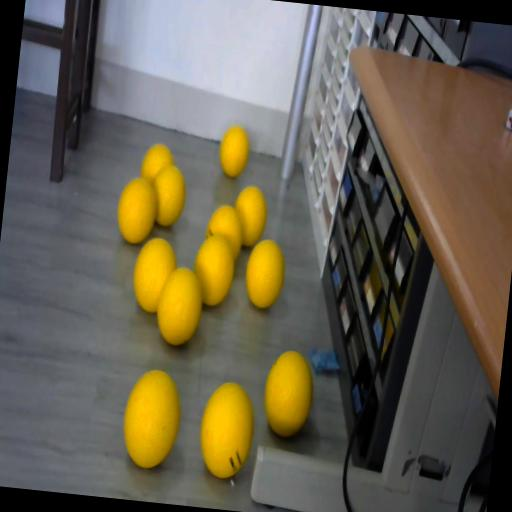FUEL: (118, 366, 184, 470), (195, 378, 259, 480), (260, 348, 316, 440), (130, 234, 179, 314), (190, 232, 238, 308), (241, 237, 288, 310), (114, 176, 160, 246), (148, 160, 190, 229), (230, 184, 270, 248), (218, 124, 252, 178)
